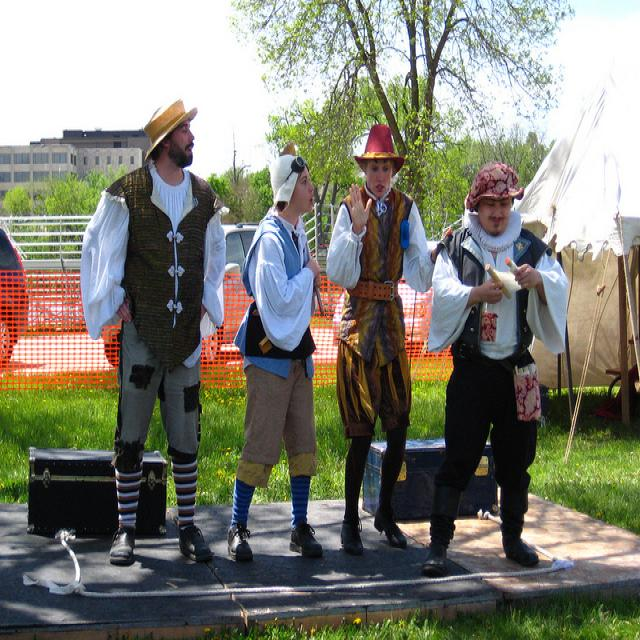Vehicle: (221, 223, 260, 274)
